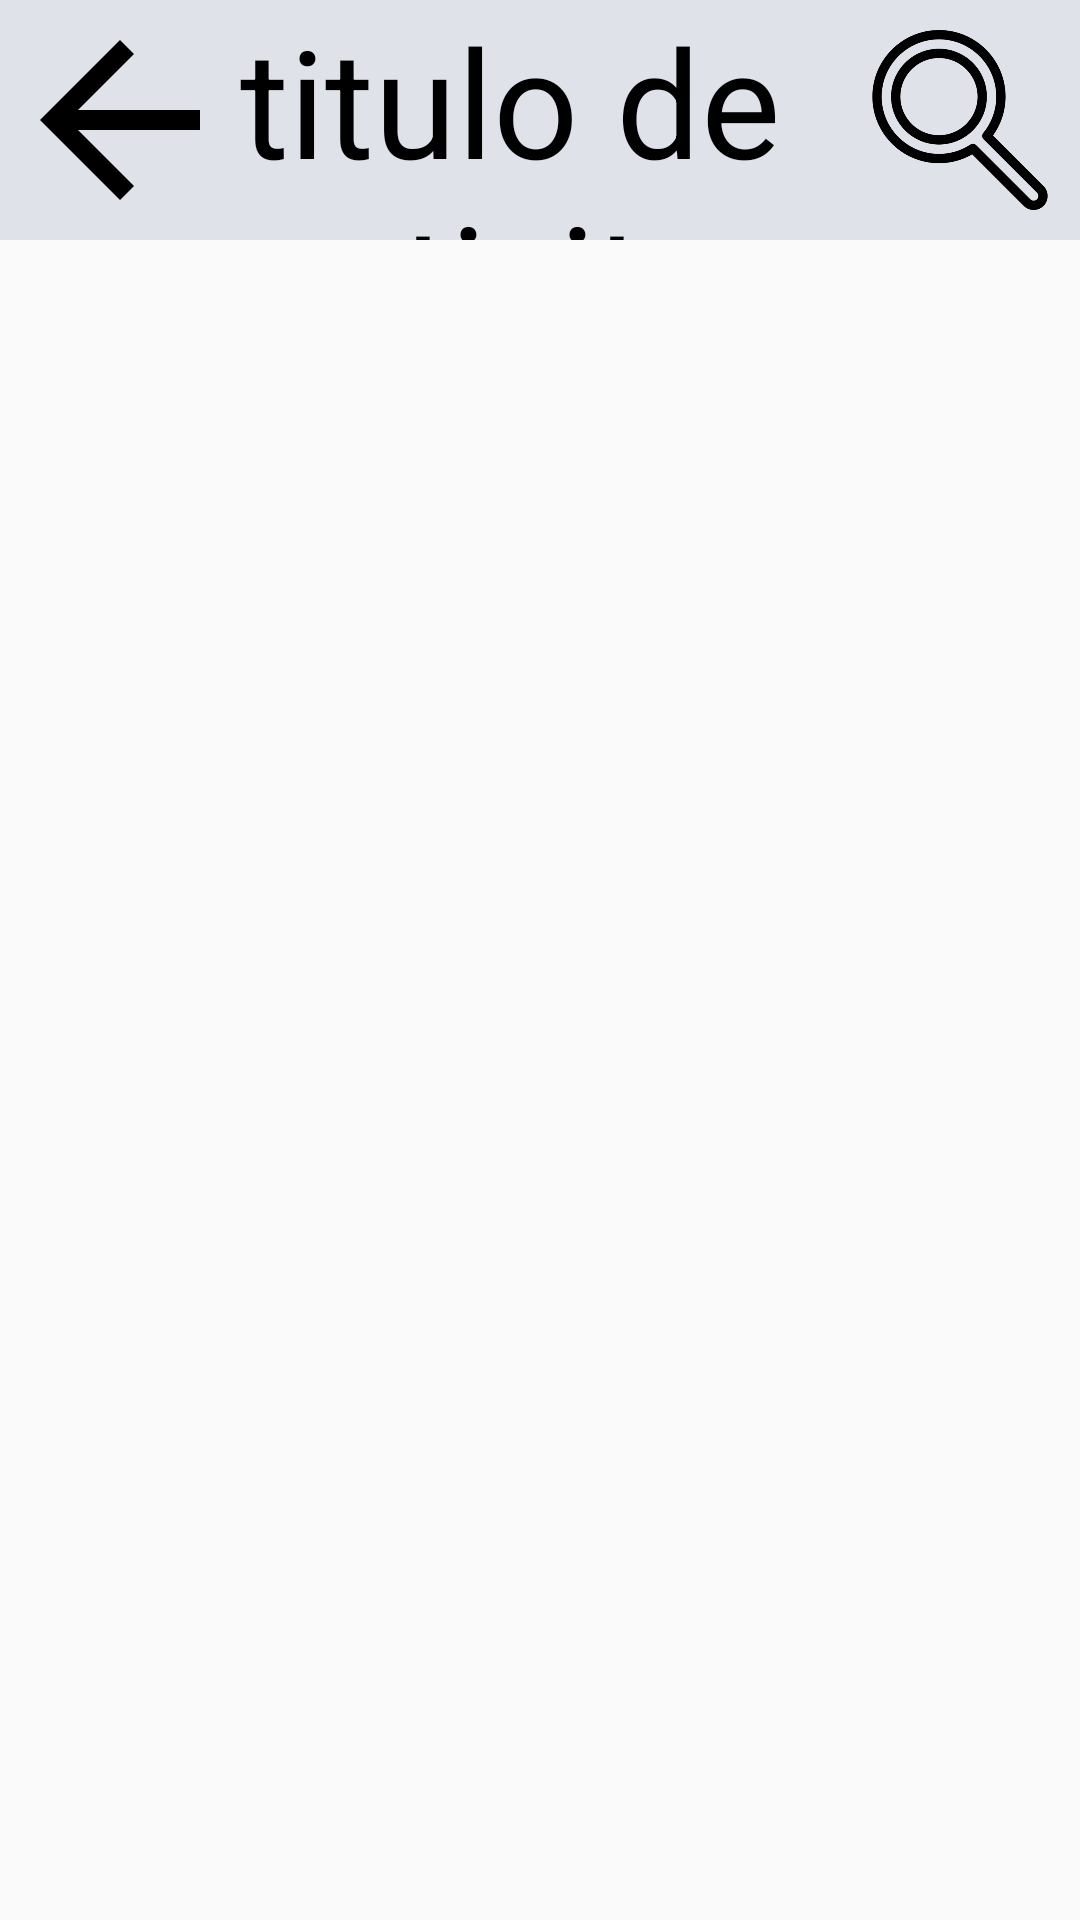

Icon click points for this 1080px x 1920px phone screenshot, format point (x, y):
buscar: point (960, 120)
